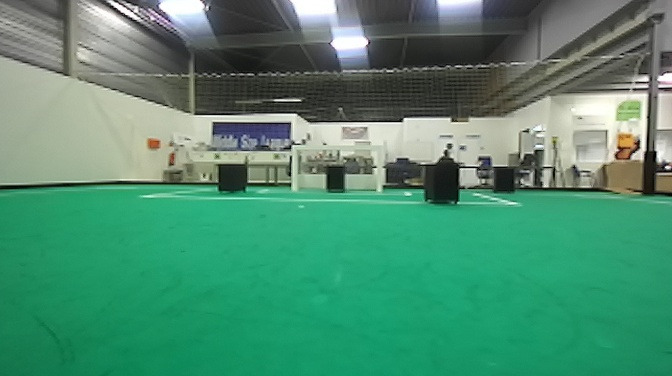goalpost: (287, 142, 304, 192), (376, 140, 385, 194)
